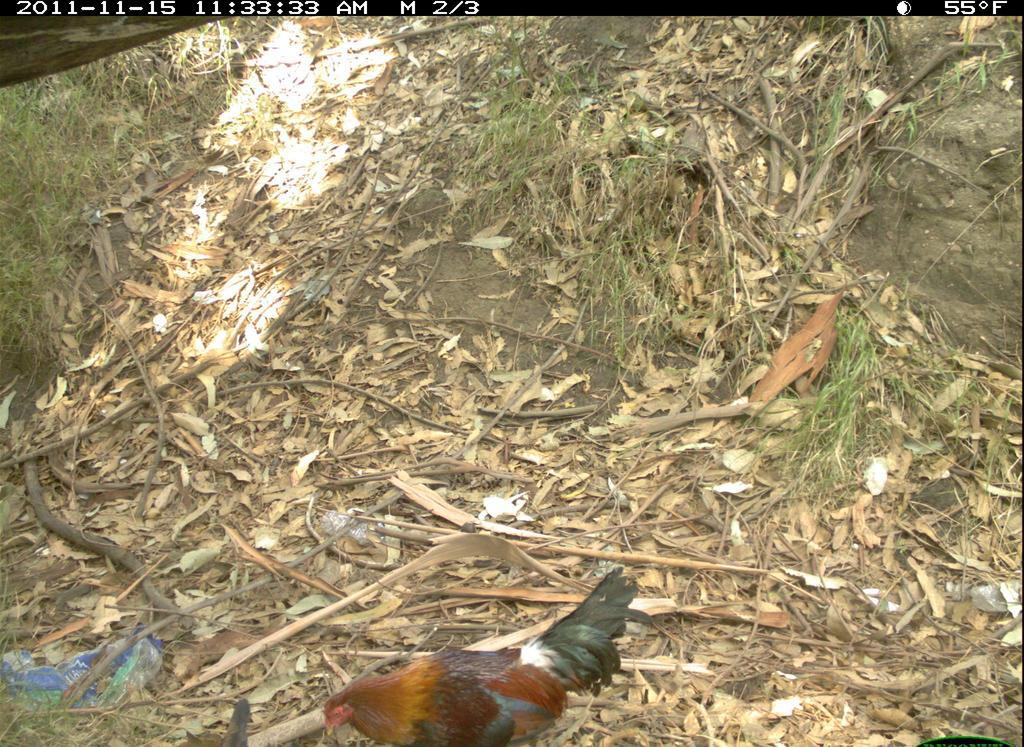bird: (308, 553, 655, 747)
